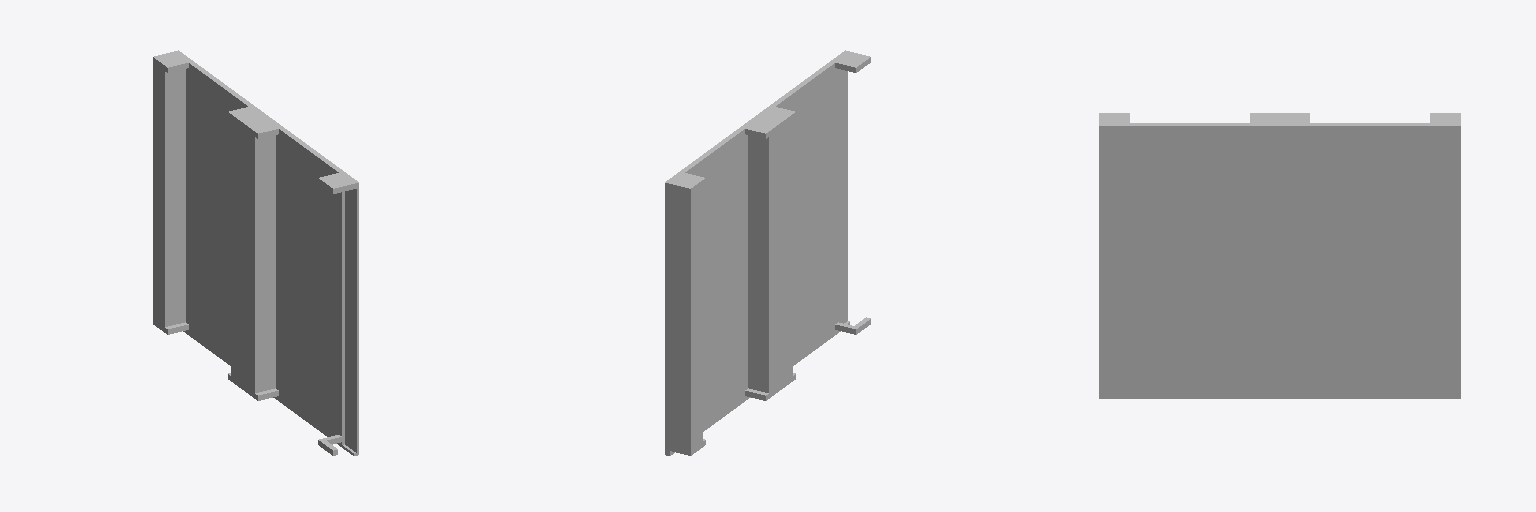
File: WallForPicture2.obj
3 renders of one model, left to right at view 1: azimuth 30°, elevation 25°; view 2: azimuth 150°, elevation 25°; view 3: azimuth 270°, elevation 25°, orthographic.
Visible parts, largest first — view 1: object 1; view 2: object 1; view 3: object 1.
Part boxes in pixels (x1,y1,x2,y2): object 1: (153,50,358,455); object 1: (665,50,870,455); object 1: (1099,113,1460,398).
Size of the model in its own units: 1 by 10 by 12.